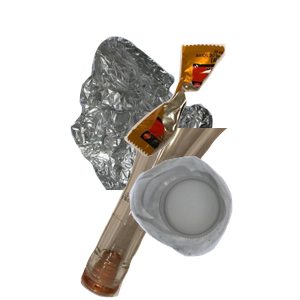glass: (78, 128, 298, 300)
metal: (68, 34, 300, 214)
plastic: (127, 154, 300, 300)
trash: (122, 41, 300, 190)
